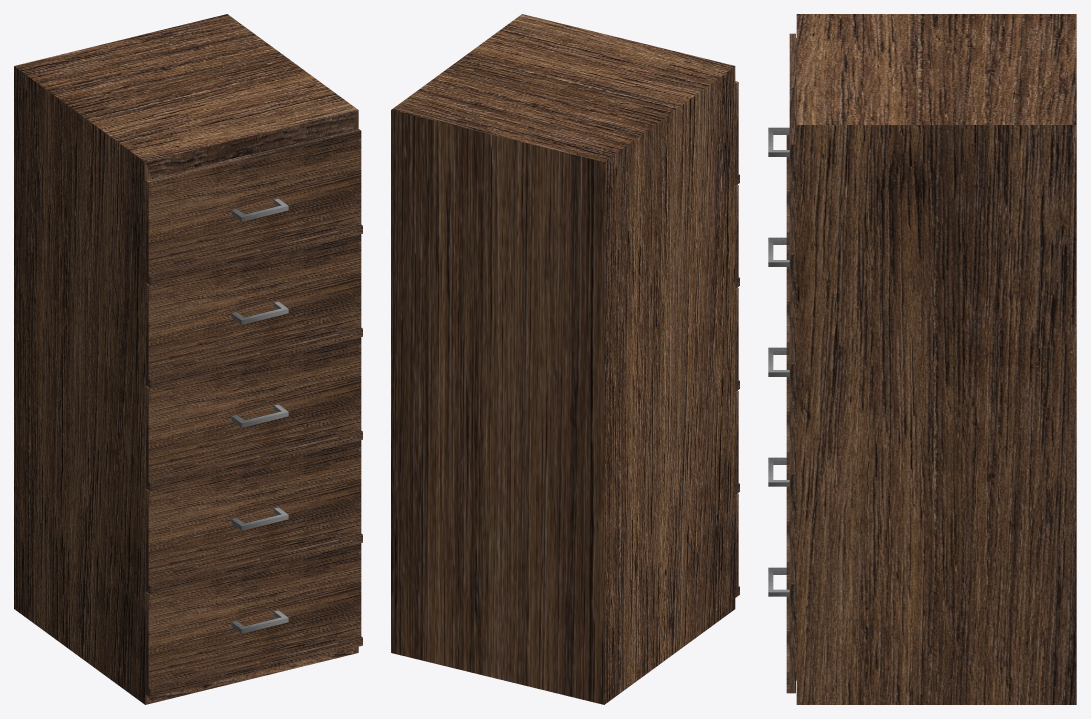
File: ShelfTall.fbx
3 renders of one model, left to right at view 1: azimuth 30°, elevation 25°; view 2: azimuth 150°, elevation 25°; view 3: azimuth 270°, elevation 25°, orthographic. The views are drawn at different scales.
Parts seen in each view (by area): view 1: Shelf, Drawer5, Drawer4, Drawer2, Drawer3, Drawer1; view 2: Shelf; view 3: Shelf, Drawer5, Drawer1, Drawer3, Drawer2, Drawer4.
Boxes of the visible parts, x1,y1,x2,y2 form: Shelf: [14, 14, 358, 704]; Drawer5: [145, 128, 362, 285]; Drawer4: [145, 234, 362, 388]; Drawer2: [145, 440, 362, 594]; Drawer3: [145, 337, 362, 491]; Drawer1: [145, 543, 362, 697]; Shelf: [391, 14, 735, 704]; Shelf: [796, 14, 1076, 704]; Drawer5: [768, 33, 796, 253]; Drawer1: [768, 567, 796, 693]; Drawer3: [768, 347, 796, 473]; Drawer2: [768, 457, 796, 583]; Drawer4: [768, 237, 796, 363].
Size of the model in its own units: 57.97 by 141 by 68.
